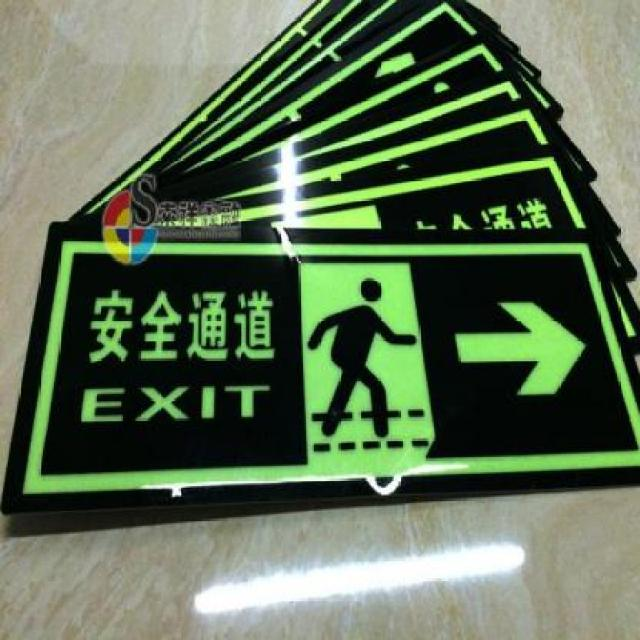exit_sign: (16, 217, 638, 505)
